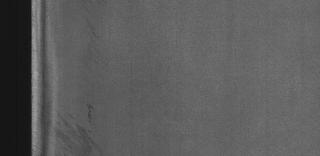water spot: (55, 100, 111, 156), (79, 14, 117, 80)
